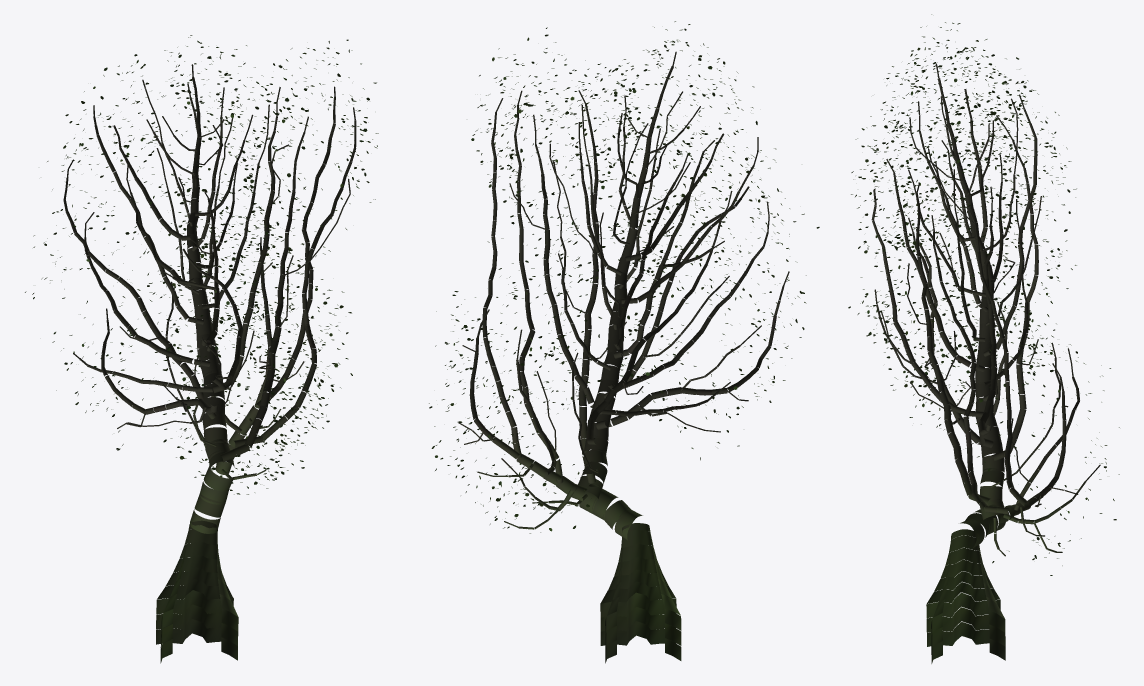
File: SM_Tree_alder_0.glb
The picture shows the model from 3 angles, left to right: view 1: azimuth 30°, elevation 25°; view 2: azimuth 150°, elevation 25°; view 3: azimuth 270°, elevation 25°; orthographic projection. The views are drawn at different scales.
Parts seen in each view (by area): view 1: SM_Tree_alder_0; view 2: SM_Tree_alder_0; view 3: SM_Tree_alder_0.
Part boxes in pixels (x1,y1,x2,y2): SM_Tree_alder_0: (25,35,378,663); SM_Tree_alder_0: (429,21,819,663); SM_Tree_alder_0: (848,14,1119,663).
Bounding box in the file's own units: 6.25 × 11.43 × 4.68.
